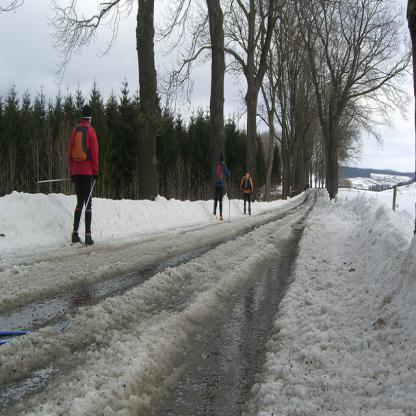backpack: (72, 124, 91, 162), (215, 163, 224, 183), (241, 175, 252, 190)
